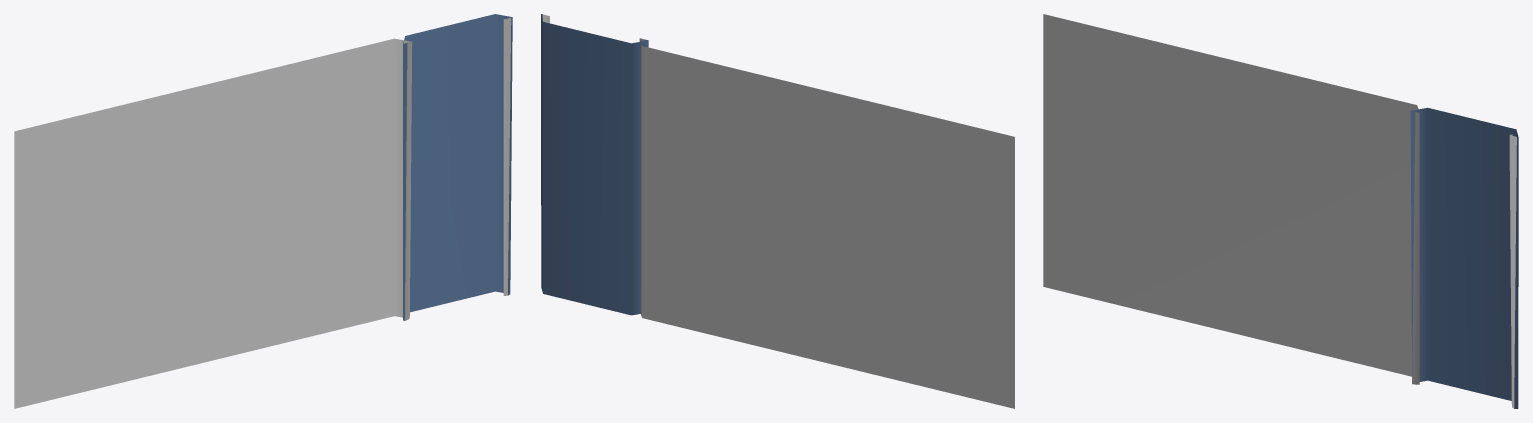
The picture shows the model from 3 angles, left to right: view 1: azimuth 30°, elevation 25°; view 2: azimuth 150°, elevation 25°; view 3: azimuth 330°, elevation 25°; orthographic projection.
Parts seen in each view (by area): view 1: ECB34F764AC46DE652A6E2BFEA1AFF66; view 2: ECB34F764AC46DE652A6E2BFEA1AFF66; view 3: ECB34F764AC46DE652A6E2BFEA1AFF66.
Part boxes in pixels (<box>): ECB34F764AC46DE652A6E2BFEA1AFF66: <box>14,14,512,408</box>; ECB34F764AC46DE652A6E2BFEA1AFF66: <box>541,14,1014,408</box>; ECB34F764AC46DE652A6E2BFEA1AFF66: <box>1043,14,1518,408</box>.
Bounding box in the file's own units: 0.6001 × 21.74 × 11.75.
